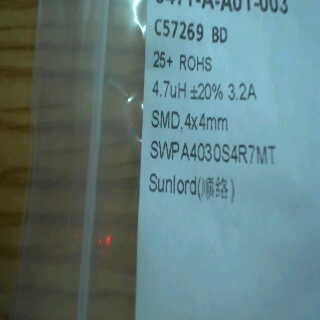4.7uH: (150, 75, 191, 100)
